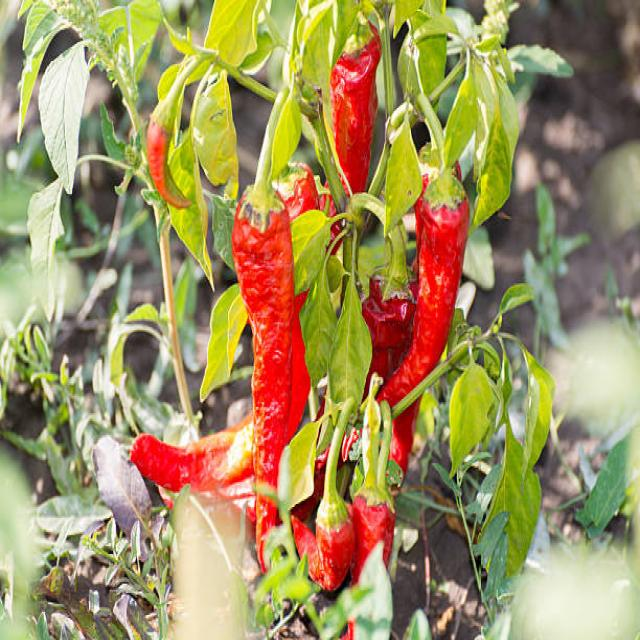Ripe: (131, 294, 313, 492), (232, 193, 295, 572), (379, 195, 470, 405), (330, 24, 381, 193), (362, 275, 416, 396), (293, 514, 355, 590), (351, 492, 395, 583), (147, 116, 190, 207)
